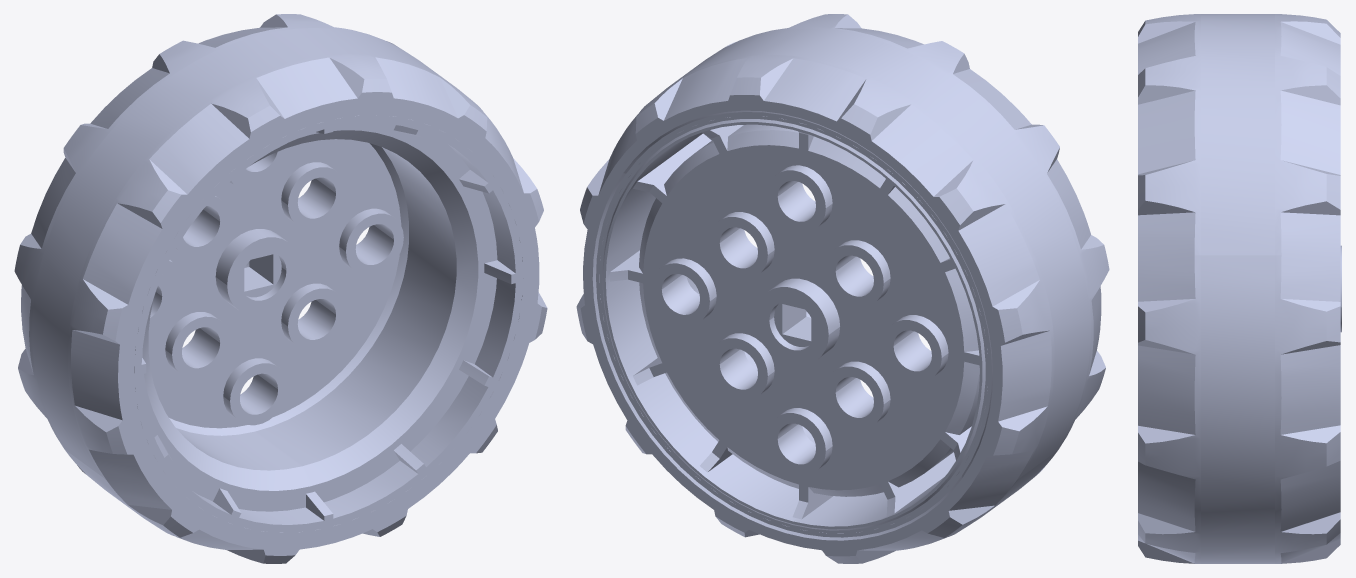
File: 4x Pitch Diameter (160mm Travel) Smooth Wheel (228-2500-1383).glb
3 views of the same model, side by side, from view 1: azimuth 30°, elevation 25°; view 2: azimuth 150°, elevation 25°; view 3: azimuth 270°, elevation 25° (orthographic). The views are drawn at different scales.
Parts seen in each view (by area): view 1: 4x Pitch Diameter (160mm Travel) Smooth Wheel (228-2500-1383; view 2: 4x Pitch Diameter (160mm Travel) Smooth Wheel (228-2500-1383; view 3: 4x Pitch Diameter (160mm Travel) Smooth Wheel (228-2500-1383.
Boxes of the visible parts, x1=… form: 4x Pitch Diameter (160mm Travel) Smooth Wheel (228-2500-1383: x1=14, y1=14, x2=547, y2=563; 4x Pitch Diameter (160mm Travel) Smooth Wheel (228-2500-1383: x1=576, y1=14, x2=1109, y2=563; 4x Pitch Diameter (160mm Travel) Smooth Wheel (228-2500-1383: x1=1138, y1=14, x2=1341, y2=563.
Size of the model in its own units: 1.99 by 1.99 by 0.7362.
